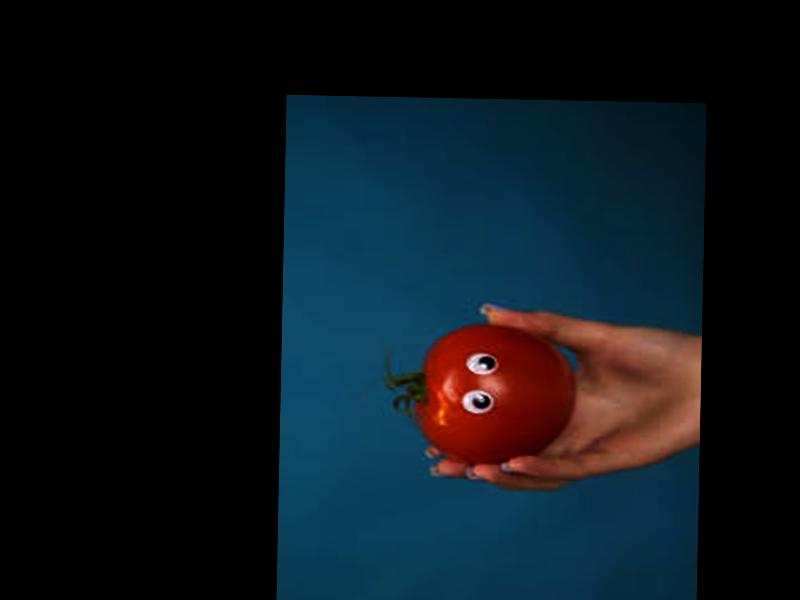Tomato: (412, 321, 577, 467)
